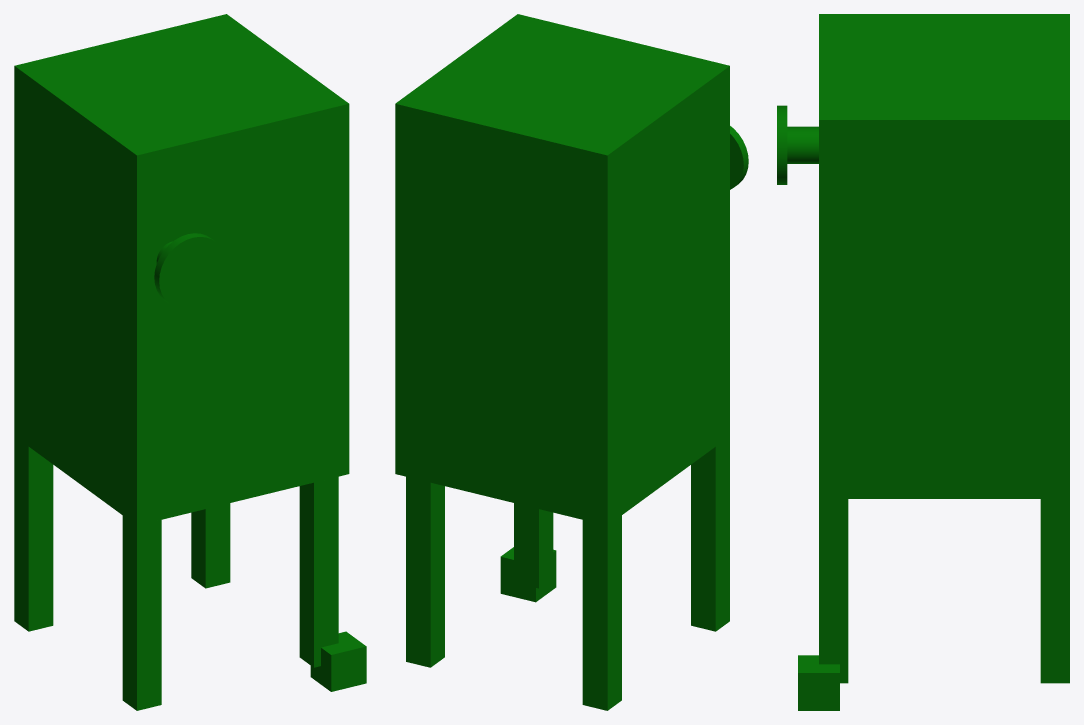
Rendered from Image-1710907554442-2281289652000_71-SM52L.fbx.
3 views of the same model, side by side, from view 1: azimuth 30°, elevation 25°; view 2: azimuth 150°, elevation 25°; view 3: azimuth 270°, elevation 25° (orthographic). The views are drawn at different scales.
Parts seen in each view (by area): view 1: BOX 1 of SUBEQUIPMENT /71-SM52L-PRIM, BOX 3 of SUBEQUIPMENT /71-SM52L-PRIM, BOX 2 of SUBEQUIPMENT /71-SM52L-PRIM, BOX 5 of SUBEQUIPMENT /71-SM52L-PRIM, /71-SM52L-N1, BOX 4 of SUBEQUIPMENT /71-SM52L-PRIM, BOX 1 of SUBEQUIPMENT /71-SM55L; view 2: BOX 1 of SUBEQUIPMENT /71-SM52L-PRIM, BOX 2 of SUBEQUIPMENT /71-SM52L-PRIM, BOX 4 of SUBEQUIPMENT /71-SM52L-PRIM, BOX 3 of SUBEQUIPMENT /71-SM52L-PRIM, BOX 5 of SUBEQUIPMENT /71-SM52L-PRIM, BOX 1 of SUBEQUIPMENT /71-SM55L, /71-SM52L-N1; view 3: BOX 1 of SUBEQUIPMENT /71-SM52L-PRIM, BOX 4 of SUBEQUIPMENT /71-SM52L-PRIM, BOX 5 of SUBEQUIPMENT /71-SM52L-PRIM, BOX 1 of SUBEQUIPMENT /71-SM55L, /71-SM52L-N1.
Boxes of the visible parts, bbox=[...] form: BOX 1 of SUBEQUIPMENT /71-SM52L-PRIM: bbox=[14, 14, 349, 525]; BOX 3 of SUBEQUIPMENT /71-SM52L-PRIM: bbox=[122, 515, 161, 710]; BOX 2 of SUBEQUIPMENT /71-SM52L-PRIM: bbox=[14, 436, 53, 631]; BOX 5 of SUBEQUIPMENT /71-SM52L-PRIM: bbox=[299, 476, 338, 667]; /71-SM52L-N1: bbox=[154, 233, 226, 308]; BOX 4 of SUBEQUIPMENT /71-SM52L-PRIM: bbox=[191, 503, 230, 588]; BOX 1 of SUBEQUIPMENT /71-SM55L: bbox=[310, 631, 366, 691]; BOX 1 of SUBEQUIPMENT /71-SM52L-PRIM: bbox=[395, 14, 729, 525]; BOX 2 of SUBEQUIPMENT /71-SM52L-PRIM: bbox=[582, 515, 621, 710]; BOX 4 of SUBEQUIPMENT /71-SM52L-PRIM: bbox=[406, 476, 444, 667]; BOX 3 of SUBEQUIPMENT /71-SM52L-PRIM: bbox=[691, 436, 729, 631]; BOX 5 of SUBEQUIPMENT /71-SM52L-PRIM: bbox=[514, 503, 553, 588]; BOX 1 of SUBEQUIPMENT /71-SM55L: bbox=[500, 547, 556, 602]; /71-SM52L-N1: bbox=[730, 126, 748, 189]; BOX 1 of SUBEQUIPMENT /71-SM52L-PRIM: bbox=[819, 14, 1069, 498]; BOX 4 of SUBEQUIPMENT /71-SM52L-PRIM: bbox=[1040, 499, 1069, 683]; BOX 5 of SUBEQUIPMENT /71-SM52L-PRIM: bbox=[819, 499, 848, 683]; BOX 1 of SUBEQUIPMENT /71-SM55L: bbox=[798, 655, 839, 710]; /71-SM52L-N1: bbox=[777, 105, 818, 184].
Bounding box in the file's own units: 0.62 × 0.7 × 1.55.
